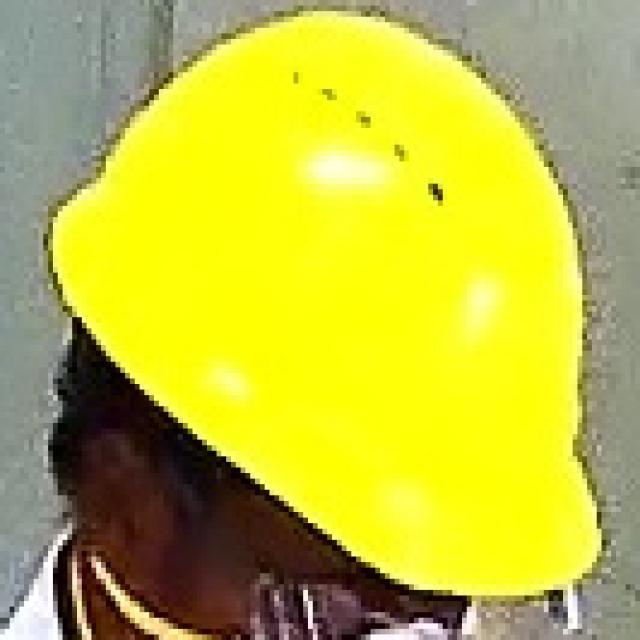yellow helmet: (41, 1, 611, 605)
